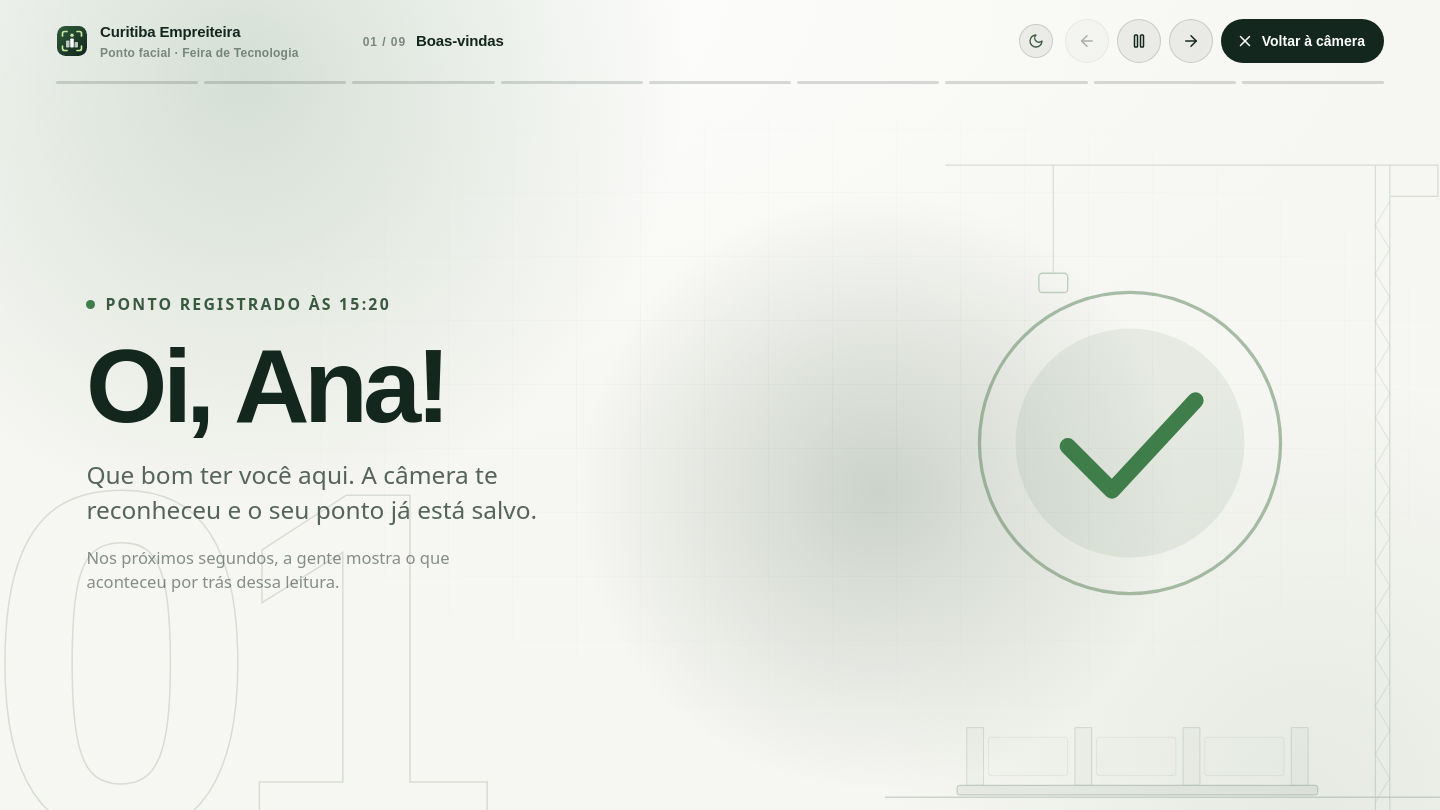
PresentationShow › credits the five real team members
What coordinates should you click on to do the following:
click the button named "Ir para a cena 8 de 9"
I would click on:
 (1165, 82)
Its box is [1094, 73, 1236, 91].
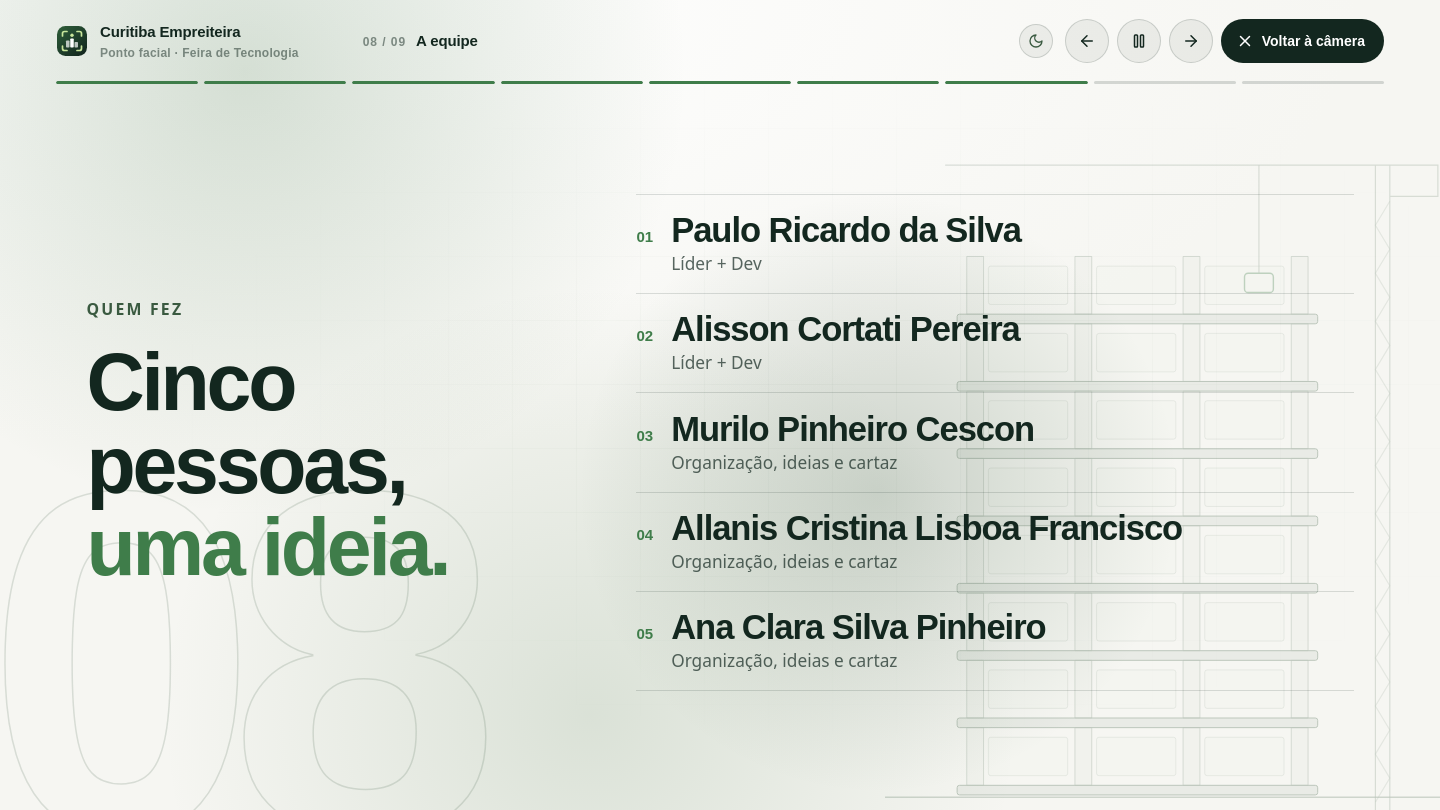
Expected: the list named "Integrantes do projeto" shows "Paulo Ricardo da Silva", [671, 211, 1021, 249]
Expected: the list named "Integrantes do projeto" shows "Ana Clara Silva Pinheiro", [671, 608, 1046, 646]
Expected: the number of list items is 5, [636, 195, 1354, 294]; [636, 294, 1354, 393]; [636, 394, 1354, 493]; [636, 493, 1354, 592]; [636, 592, 1354, 691]
